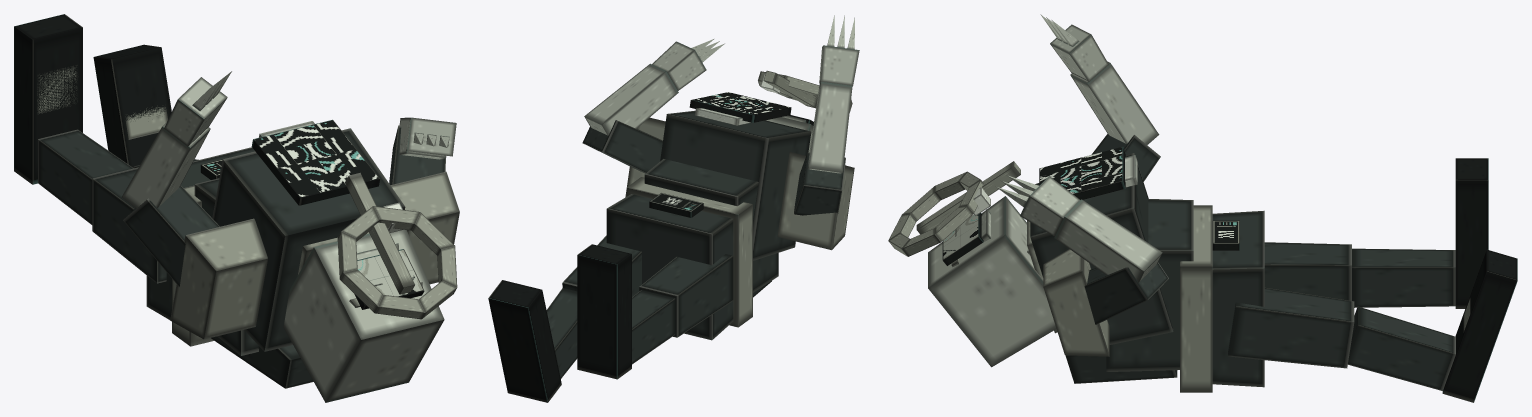
Rendered from probator_hurt.obj.
The picture shows the model from 3 angles, left to right: view 1: azimuth 30°, elevation 25°; view 2: azimuth 150°, elevation 25°; view 3: azimuth 270°, elevation 25°; orthographic projection. The views are drawn at different scales.
Visible parts, largest first — view 1: probator_hurt; view 2: probator_hurt; view 3: probator_hurt.
Part boxes in pixels (left/top/right/bottom): probator_hurt: left=14, top=14, right=459, bottom=402; probator_hurt: left=488, top=15, right=859, bottom=402; probator_hurt: left=888, top=14, right=1517, bottom=402.
Size of the model in its own units: 0.5996 by 0.616 by 1.13.
Materials: 1 (1 with a texture image).
